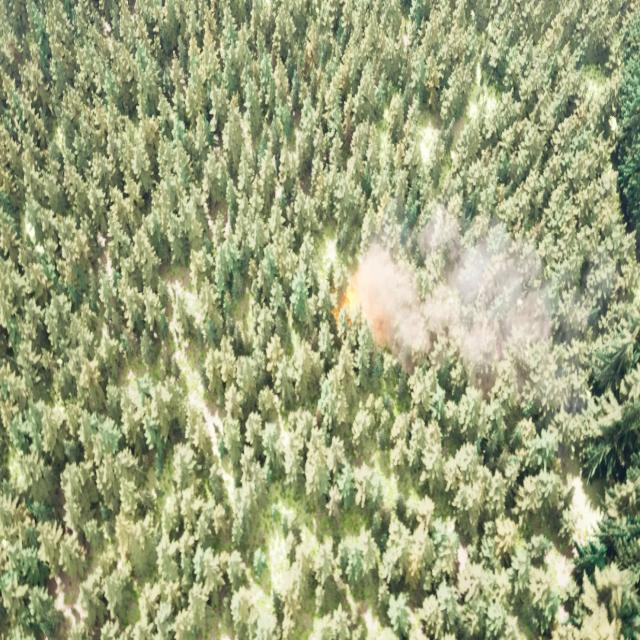smoke: (346, 203, 566, 426)
